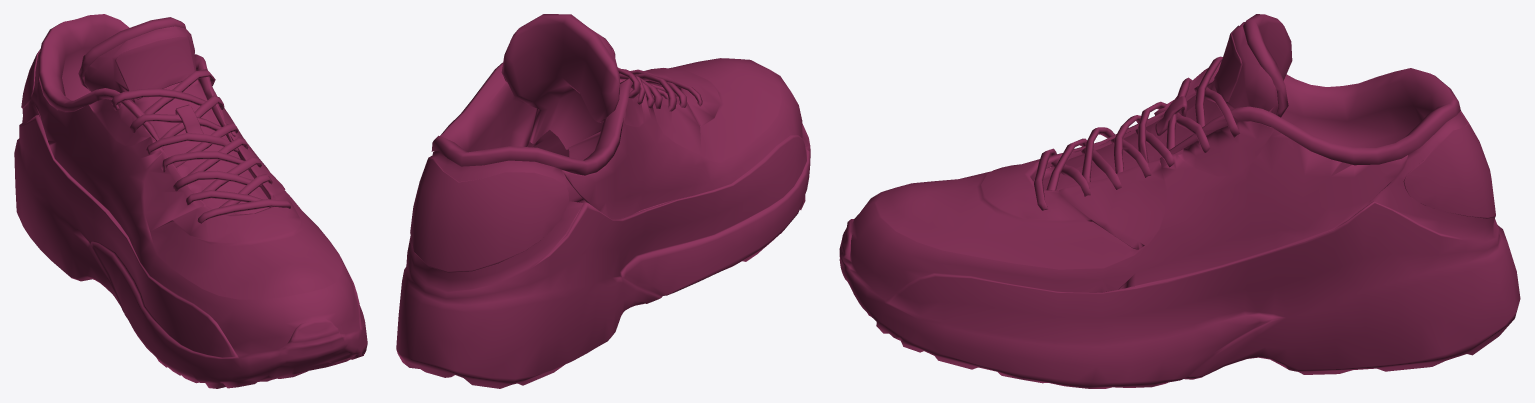
File: foot_l.fbx
The picture shows the model from 3 angles, left to right: view 1: azimuth 30°, elevation 25°; view 2: azimuth 150°, elevation 25°; view 3: azimuth 270°, elevation 25°; orthographic projection. The views are drawn at different scales.
Visible parts, largest first — view 1: foot_l-1; view 2: foot_l-1; view 3: foot_l-1.
Boxes of the visible parts, x1=… form: foot_l-1: x1=14, y1=14, x2=367, y2=388; foot_l-1: x1=396, y1=14, x2=810, y2=388; foot_l-1: x1=839, y1=14, x2=1520, y2=388.
Size of the model in its own units: 0.1383 by 0.2685 by 0.106.
